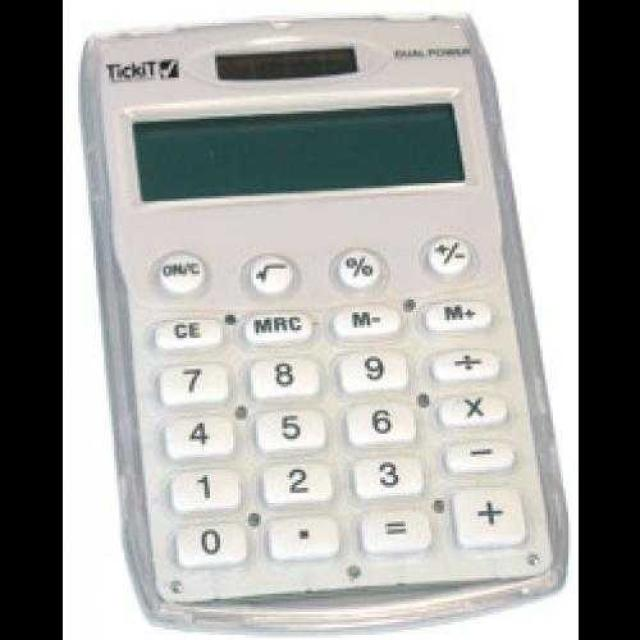Calculator: (76, 10, 570, 632)
